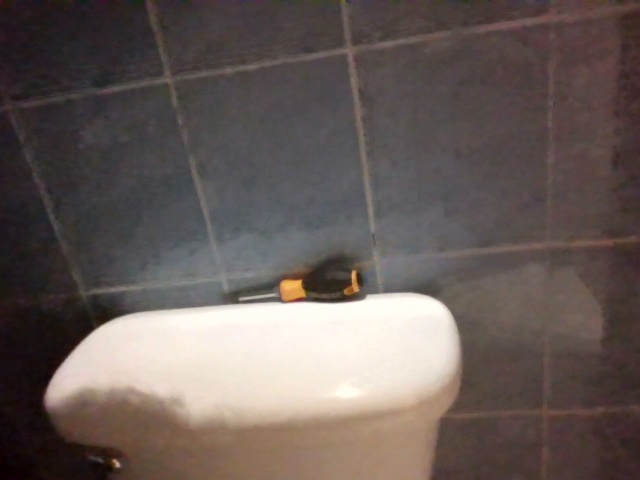destornillador: (236, 269, 364, 306)
